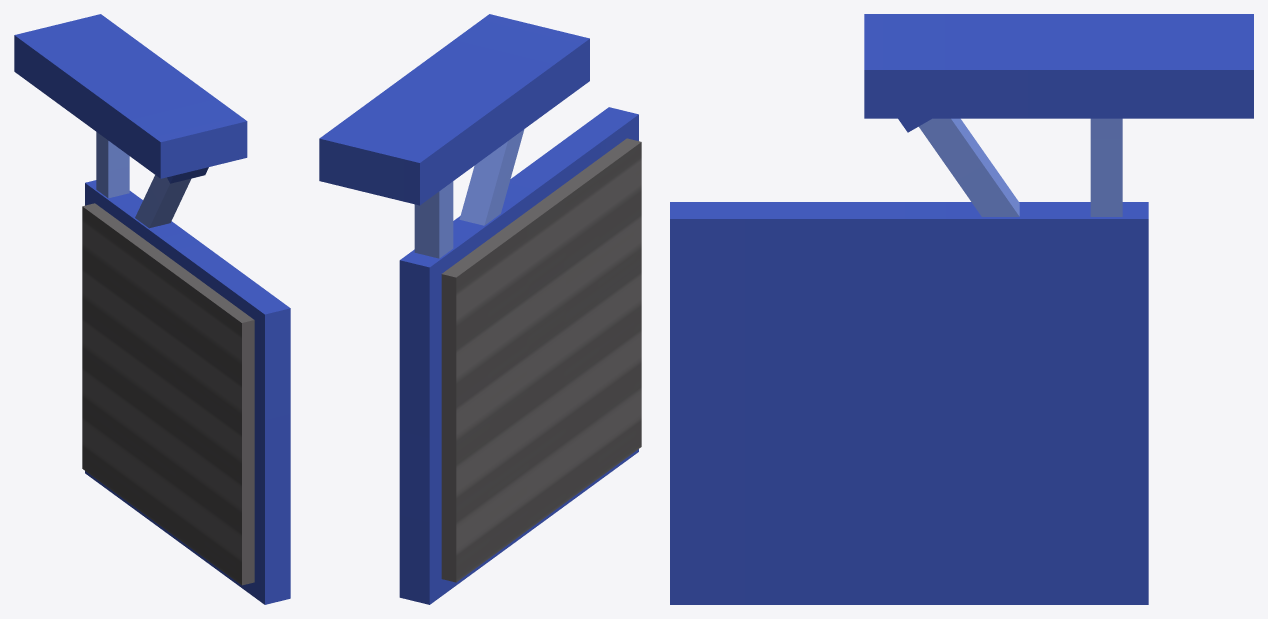
The model's file is SignProp_1_B_2.fbx.
3 renders of one model, left to right at view 1: azimuth 30°, elevation 25°; view 2: azimuth 150°, elevation 25°; view 3: azimuth 270°, elevation 25°, orthographic. The views are drawn at different scales.
Visible parts, largest first — view 1: SignProp_1_B_2; view 2: SignProp_1_B_2; view 3: SignProp_1_B_2.
Part boxes in pixels (left/top/right/bottom): SignProp_1_B_2: left=14, top=14, right=290, bottom=604; SignProp_1_B_2: left=319, top=14, right=641, bottom=604; SignProp_1_B_2: left=670, top=14, right=1253, bottom=604.
Bounding box in the file's own units: 20.79 × 95.68 × 91.36.
